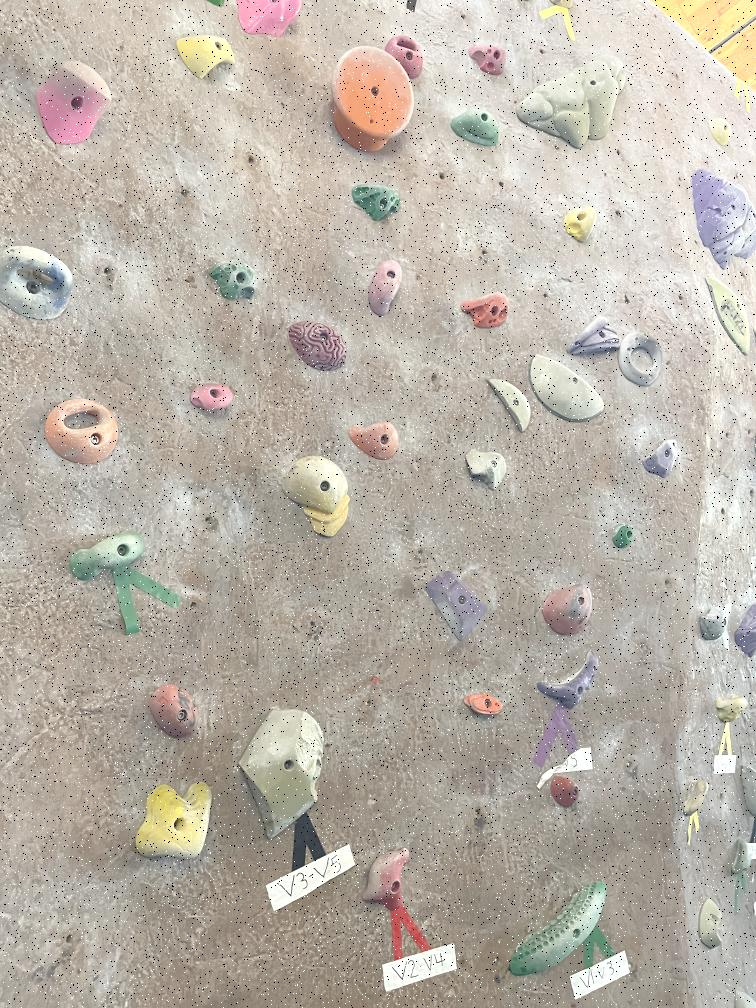Crimp: (524, 354, 610, 428), (422, 571, 487, 642), (536, 650, 604, 714), (486, 374, 532, 438), (565, 315, 621, 357), (464, 688, 509, 728), (642, 438, 679, 481), (698, 605, 728, 643), (732, 835, 753, 879)
Edges: (512, 56, 630, 158), (237, 706, 324, 842), (689, 161, 756, 271), (693, 273, 754, 358)
Foothold: (610, 520, 642, 554)
Jug: (322, 44, 414, 154), (117, 775, 219, 867), (35, 55, 117, 146), (0, 232, 74, 327), (276, 451, 356, 537), (353, 840, 424, 919), (203, 254, 266, 310), (344, 415, 409, 466), (620, 320, 666, 390), (346, 174, 402, 224), (454, 287, 512, 335), (450, 105, 505, 151), (562, 196, 607, 251), (706, 687, 752, 729), (679, 773, 714, 827), (703, 116, 736, 148)
Pinch: (509, 878, 614, 983), (165, 27, 240, 85), (66, 528, 146, 581), (364, 253, 412, 317), (462, 34, 516, 80), (183, 377, 239, 419), (464, 446, 510, 491), (696, 897, 726, 956)
Pocket: (39, 390, 122, 470), (383, 30, 426, 80)
Sloper: (532, 572, 604, 645), (287, 306, 352, 379), (138, 674, 204, 740), (545, 775, 590, 814)
